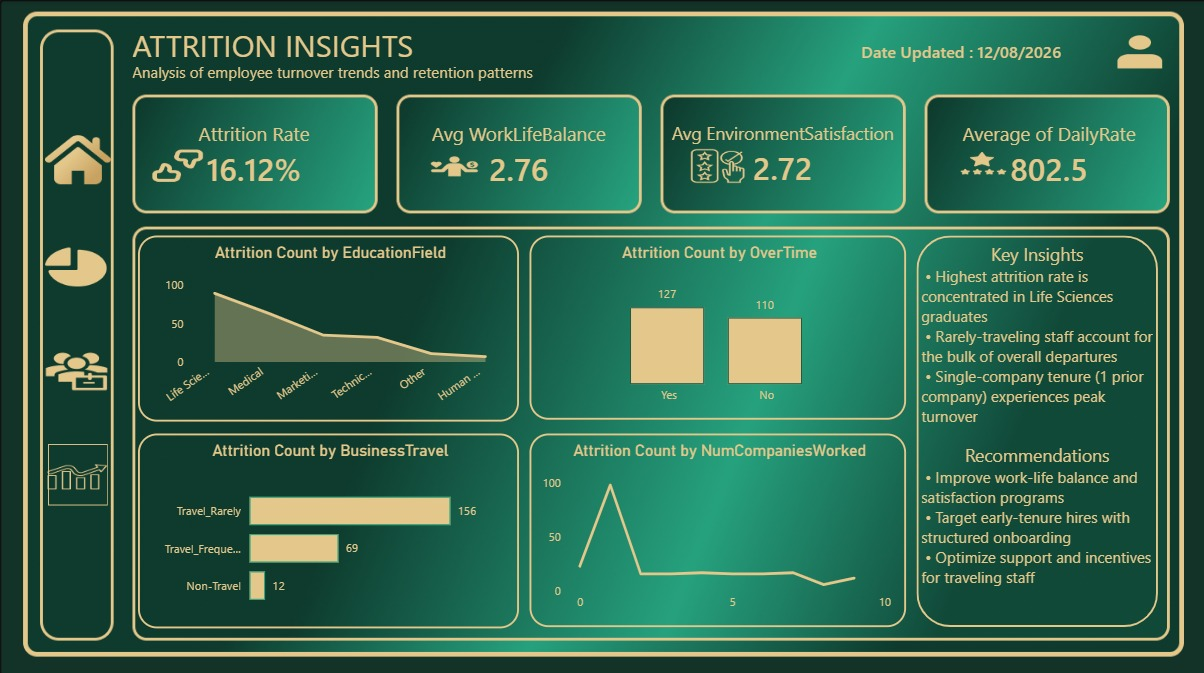

This screenshot's page, from the dashboard's own definition file:
{"tool":"powerbi","page":{"name":"attrition insights","canvas":[1280,720],"ordinal":3},"visuals":[{"type":"textbox","box":[135.2,20.7,392.9,77.9],"z":0},{"type":"cardVisual","fields":{"Data":["Fact Table.Attrition Rate"]},"box":[146.3,109.8,246.5,109.8],"z":1000},{"type":"cardVisual","fields":{"Data":["Avg(Fact Table.WorkLifeBalance)"]},"box":[424.7,109.8,251.3,109.8],"z":2000},{"type":"cardVisual","fields":{"Data":["Avg(Fact Table.EnvironmentSatisfaction)"]},"box":[676,109.8,308.6,109.8],"z":3000},{"type":"cardVisual","fields":{"Data":["Avg(Fact Table.DailyRate)"]},"box":[984.6,109.8,256.1,109.8],"z":4000},{"type":"textbox","box":[135.2,60.4,458.1,49.3],"z":5000},{"type":"image","box":[47.7,124.1,70,90.7],"z":6000},{"type":"image","box":[47.7,241.8,65.2,82.7],"z":7000},{"type":"image","box":[44.5,351.5,73.2,84.3],"z":8000},{"type":"image","box":[47.7,475.6,68.4,60.4],"z":9000},{"type":"actionButton","box":[47.7,361.1,73.2,65.2],"z":10000},{"type":"actionButton","box":[44.5,251.3,73.2,65.2],"z":11000},{"type":"actionButton","box":[47.7,138.4,73.2,65.2],"z":12000},{"type":"actionButton","box":[50.9,470.8,63.6,65.2],"z":13000},{"type":"stackedAreaChart","fields":{"Category":["Fact Table.EducationField"],"Y":["Fact Table.Attrition Count"]},"box":[146.3,249.7,404,197.2],"z":14000},{"type":"clusteredBarChart","fields":{"Y":["Fact Table.Attrition Count"],"Category":["Fact Table.BusinessTravel"]},"box":[146.3,459.7,404,206.8],"z":15000},{"type":"clusteredColumnChart","fields":{"Y":["Fact Table.Attrition Count"],"Category":["Fact Table.OverTime"]},"box":[561.5,249.7,399.2,195.6],"z":16000},{"type":"lineChart","fields":{"Category":["Fact Table.NumCompaniesWorked"],"Y":["Fact Table.Attrition Count"]},"box":[561.5,459.7,399.2,205.2],"z":17000},{"type":"shape","box":[971.9,249.7,256.1,415.1],"z":18000},{"type":"textbox","box":[971.9,251.3,256.1,413.6],"z":19000},{"type":"image","box":[159.1,138.4,58.9,74.8],"z":20000},{"type":"image","box":[456.5,138.4,50.9,76.3],"z":21000},{"type":"image","box":[731.7,146.3,58.9,58.9],"z":22000},{"type":"image","box":[1014.8,143.2,55.7,60.4],"z":23000},{"type":"cardVisual","fields":{"Data":["Fact Table.Last Update Data"]},"box":[884.4,20.7,292.7,65.2],"z":24000},{"type":"image","box":[1177.1,27,63.6,55.7],"z":25000}]}

Visuals, with their boxes in screenshot pixels (x1, y1, x2, y2), scaled from the page's 1280x720 canvas onto the 1204x673 screenshot:
textbox: (127, 19, 497, 92)
cardVisual - Fact Table.Attrition Rate: (138, 103, 369, 205)
cardVisual - Avg(Fact Table.WorkLifeBalance): (399, 103, 636, 205)
cardVisual - Avg(Fact Table.EnvironmentSatisfaction): (636, 103, 926, 205)
cardVisual - Avg(Fact Table.DailyRate): (926, 103, 1167, 205)
textbox: (127, 56, 558, 103)
image: (45, 116, 111, 201)
image: (45, 226, 106, 303)
image: (42, 329, 111, 407)
image: (45, 445, 109, 501)
actionButton: (45, 338, 114, 398)
actionButton: (42, 235, 111, 296)
actionButton: (45, 129, 114, 190)
actionButton: (48, 440, 108, 501)
stackedAreaChart - Fact Table.EducationField x Fact Table.Attrition Count: (138, 233, 518, 418)
clusteredBarChart - Fact Table.Attrition Count x Fact Table.BusinessTravel: (138, 430, 518, 623)
clusteredColumnChart - Fact Table.Attrition Count x Fact Table.OverTime: (528, 233, 904, 416)
lineChart - Fact Table.NumCompaniesWorked x Fact Table.Attrition Count: (528, 430, 904, 621)
shape: (914, 233, 1155, 621)
textbox: (914, 235, 1155, 621)
image: (150, 129, 205, 199)
image: (429, 129, 477, 201)
image: (688, 137, 744, 192)
image: (955, 134, 1007, 190)
cardVisual - Fact Table.Last Update Data: (832, 19, 1107, 80)
image: (1107, 25, 1167, 77)
